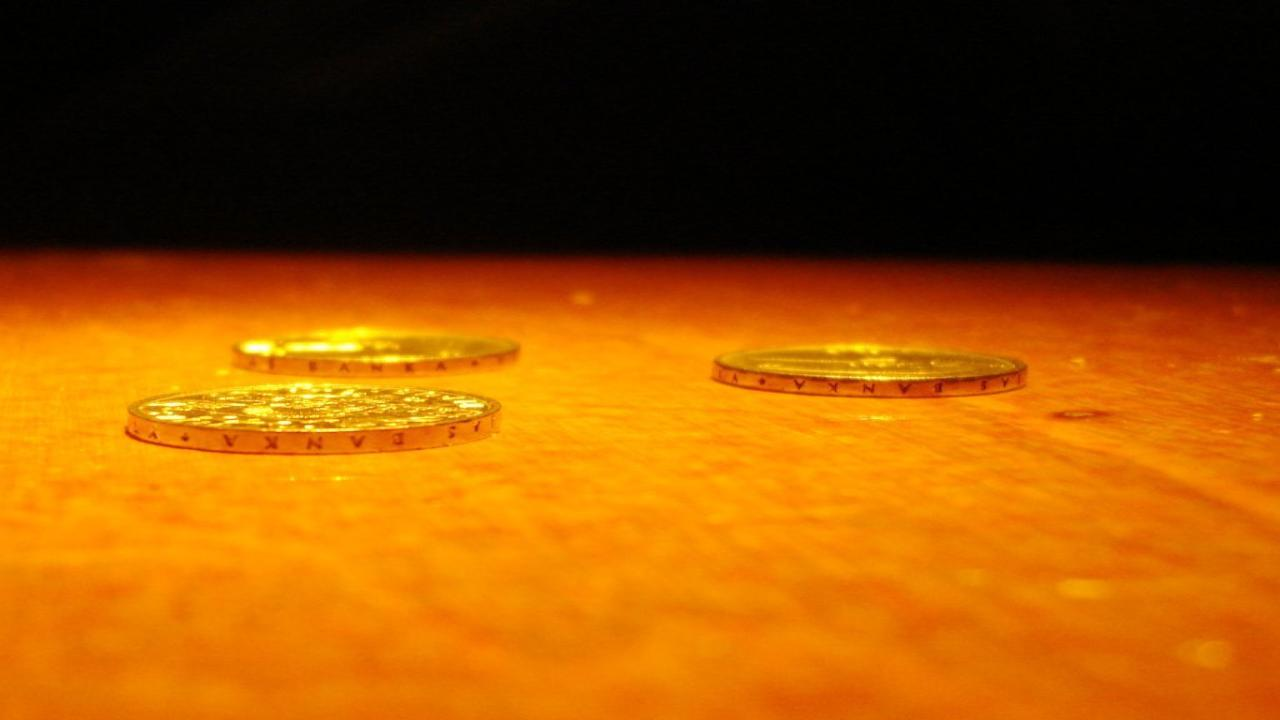coin: (122, 383, 507, 452), (710, 345, 1033, 397), (232, 327, 525, 373)
